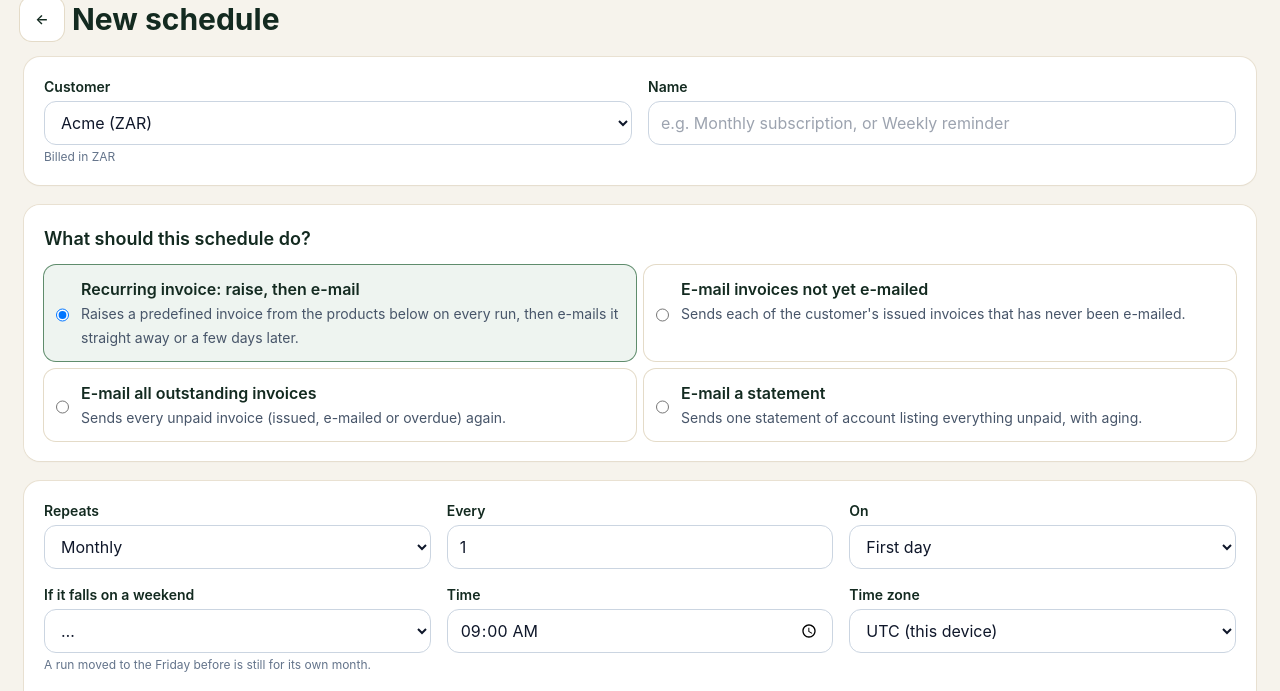
it: a new schedule starts with the texts for its type and follows the type until edited
Click the radio button labelled "E-mail a statement": (662, 407) [656,385,669,429]
(page scrolled)
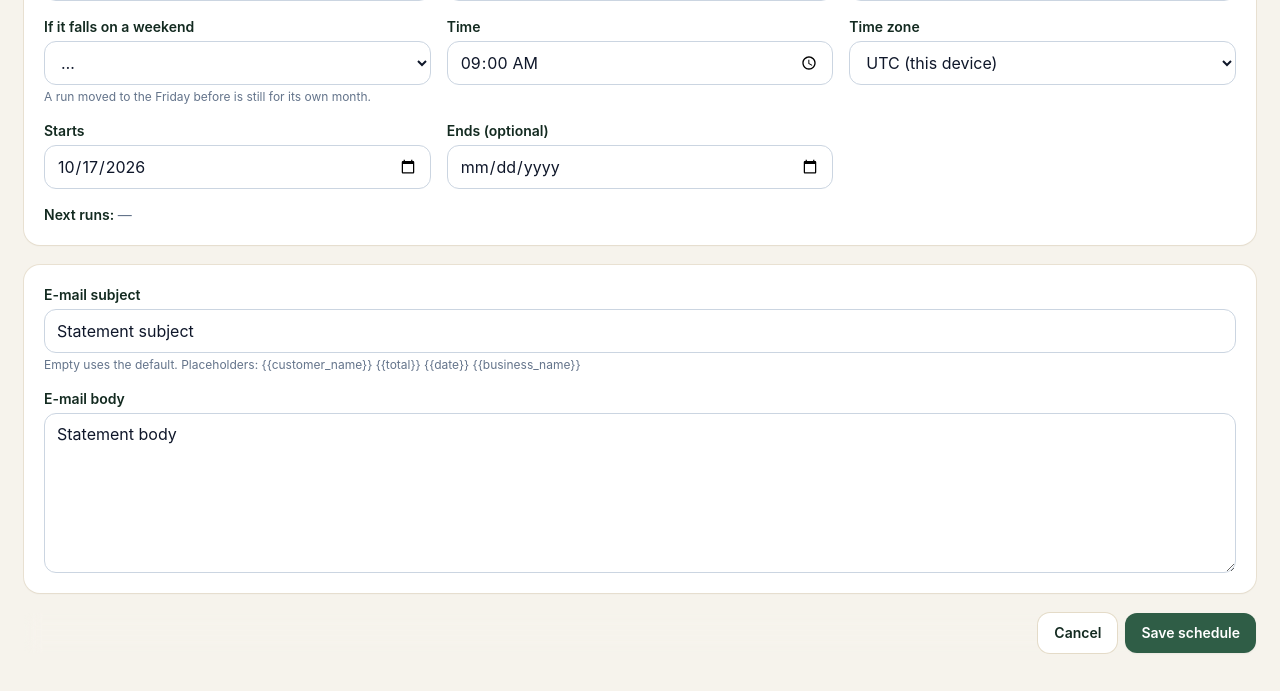
Result: the field labelled "E-mail subject" holds "Statement subject" at [44,309,1236,353]
Result: the text box labelled "E-mail body" holds "Statement body"
Replace the text in the text box labelled "E-mail body" with "My own words": (640, 493) [44,413,1236,573]
(page scrolled)
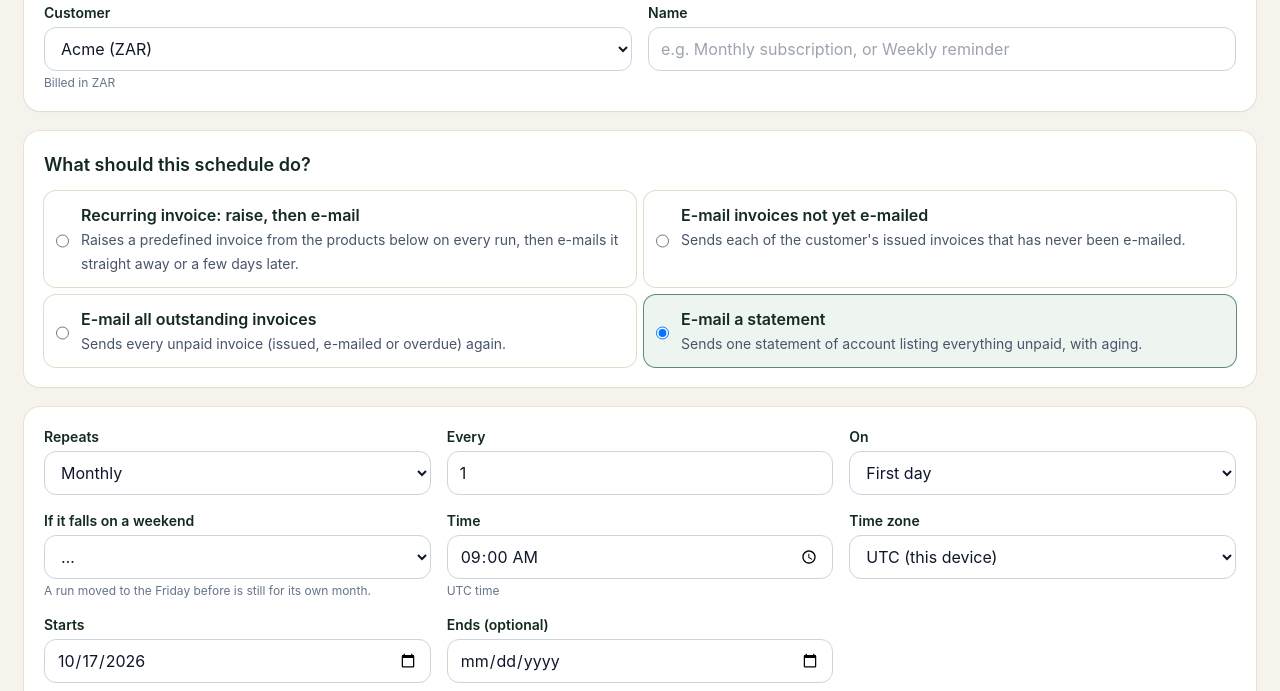
Click the radio button labelled "E-mail all outstanding invoices": (62, 333) [56,311,69,355]
(page scrolled)
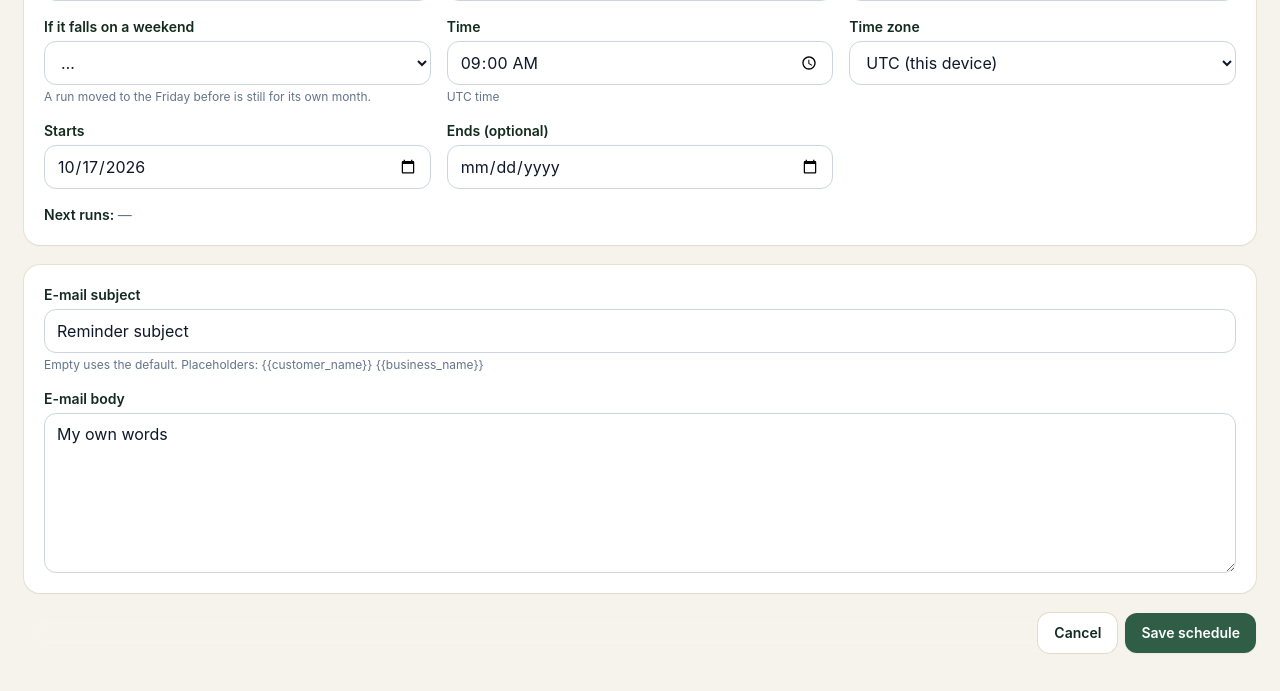
Result: the field labelled "E-mail subject" holds "Reminder subject" at [44,309,1236,353]
